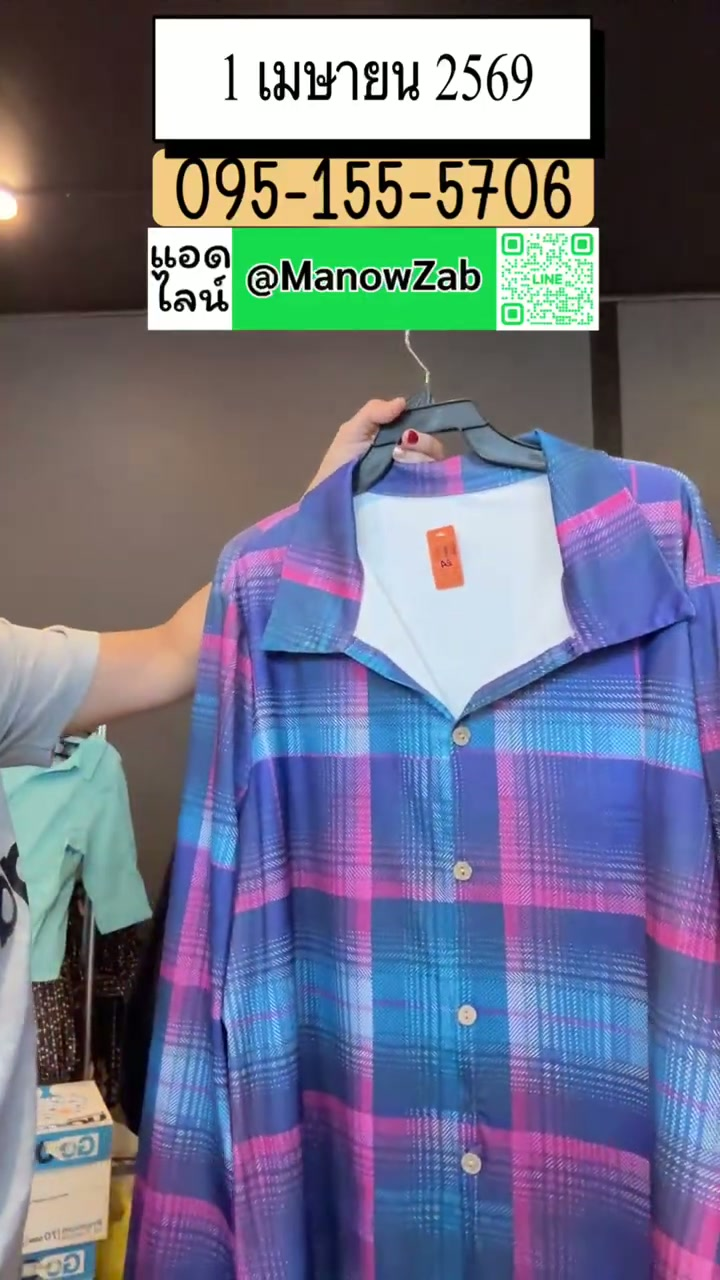display_shirt: (127, 431, 719, 1279)
